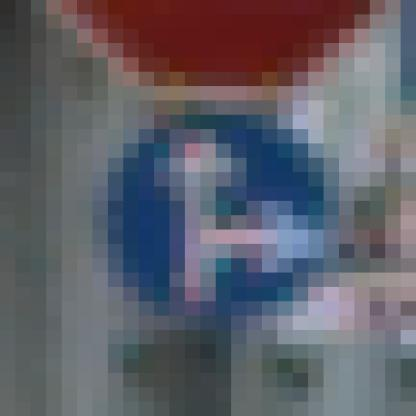Straight or Right: (93, 87, 340, 345)
